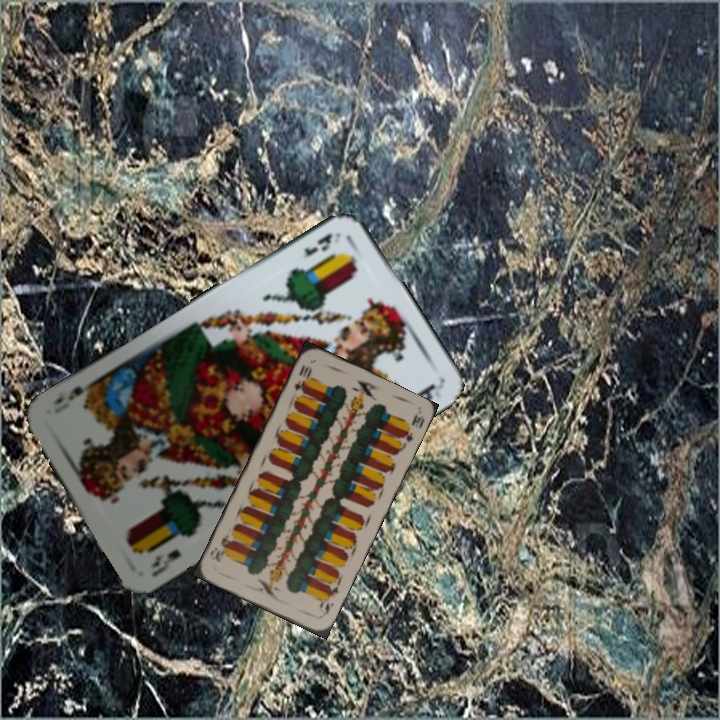E10: (315, 581, 341, 618), (290, 361, 315, 395)
EK: (300, 228, 343, 259), (146, 545, 183, 580)
